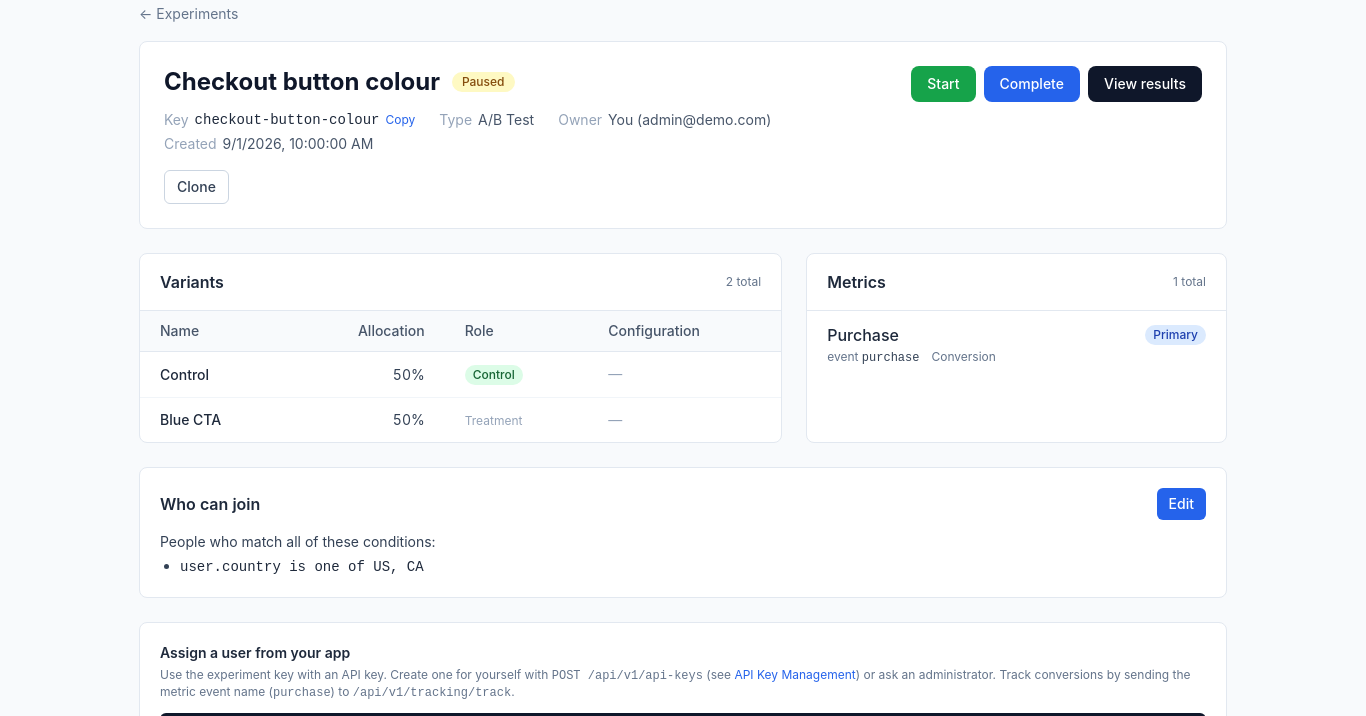
Test: Who can join — saving › asks before saving on a paused experiment, with the full notice, then sends only targeting_rules
Click the button "Edit" at [1181, 504], box [1157, 488, 1206, 520]
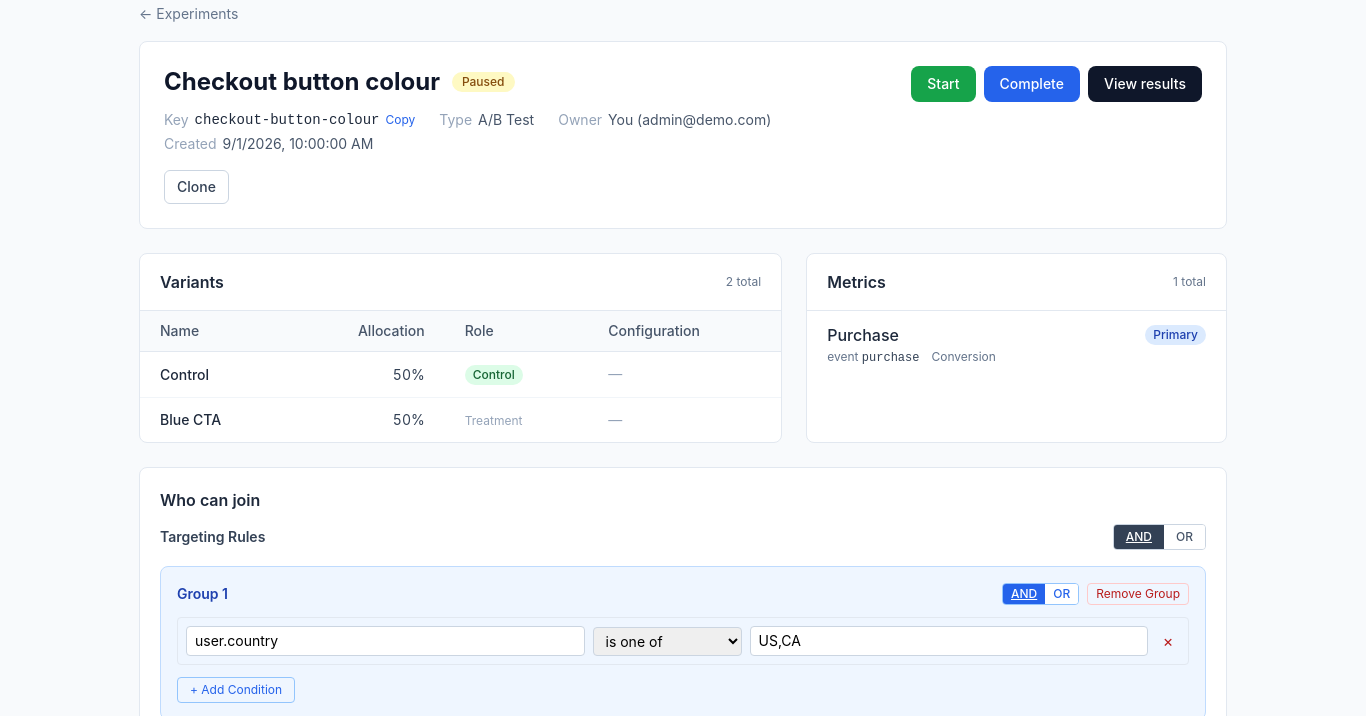
Replace the text in the field named "Group 1, condition 1 value" with "DE" at [949, 641], box [750, 626, 1148, 656]
(page scrolled)
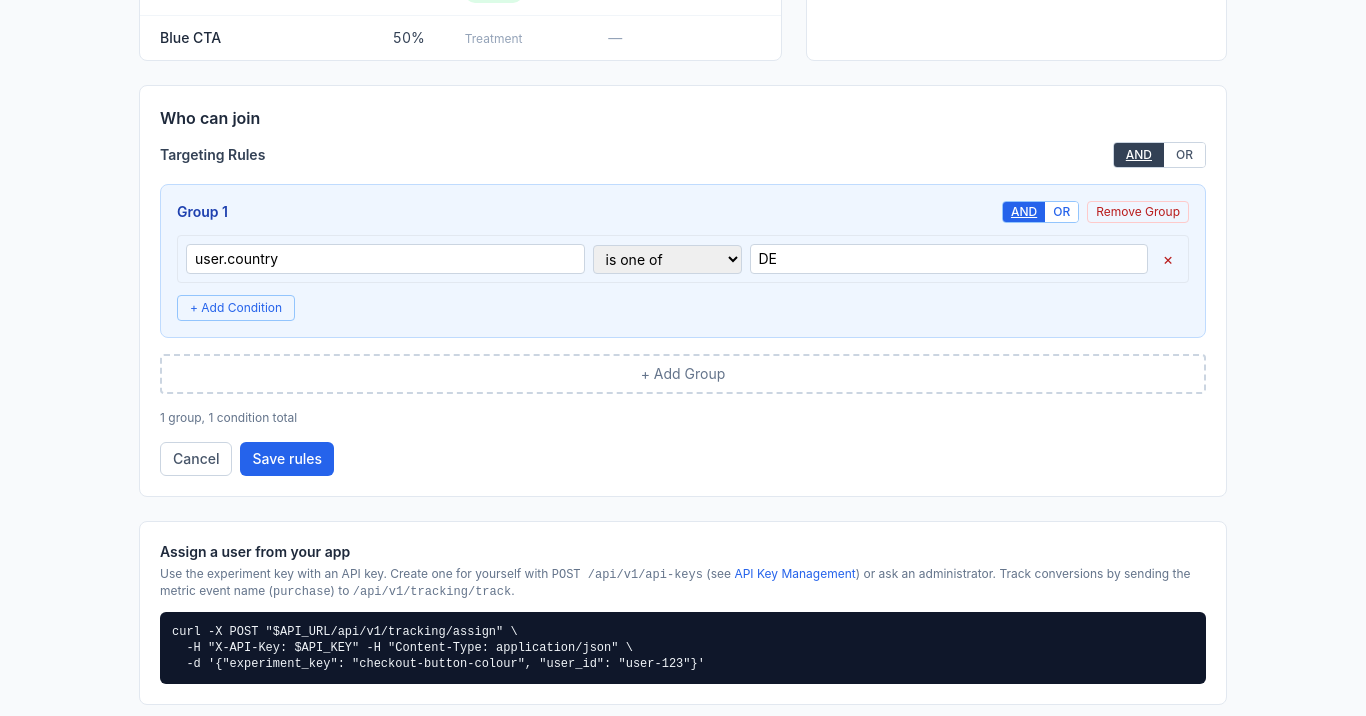
Click the button "Save rules" at [287, 459], box [240, 442, 334, 476]
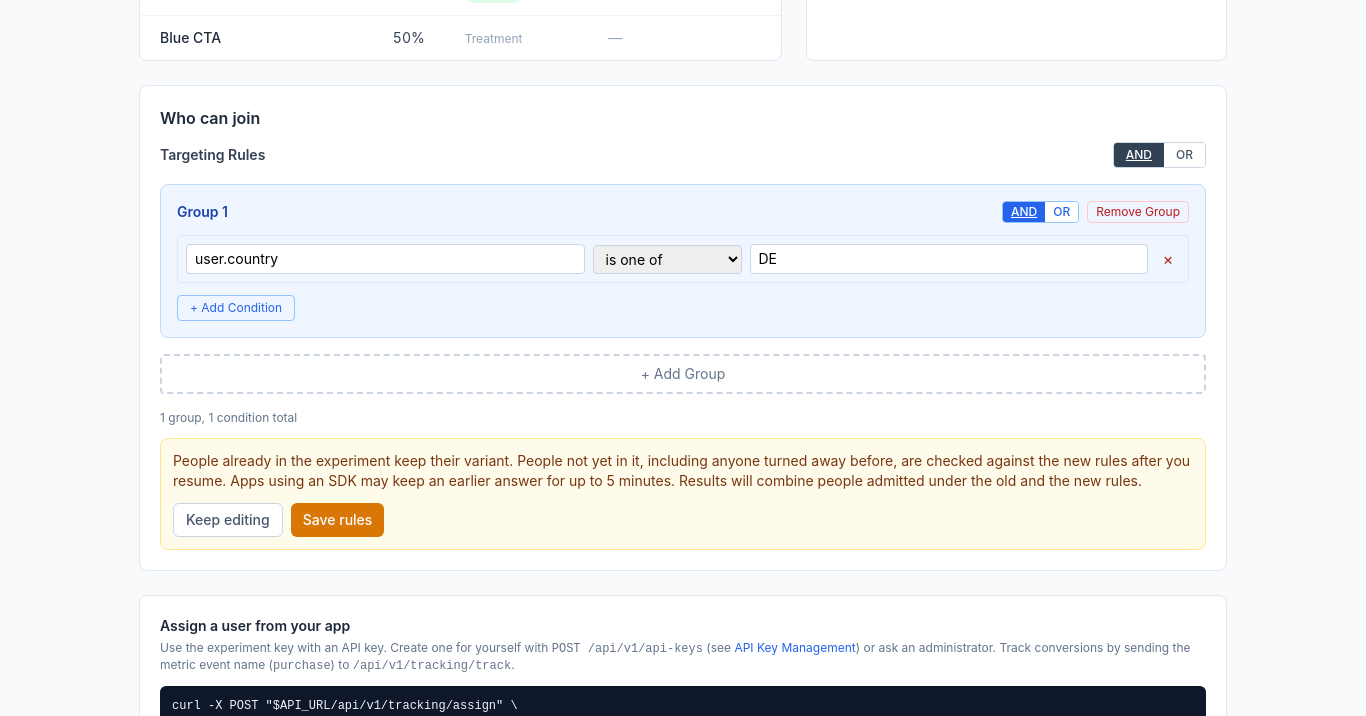
Click the button "Keep editing" at [228, 520], box [173, 503, 283, 537]
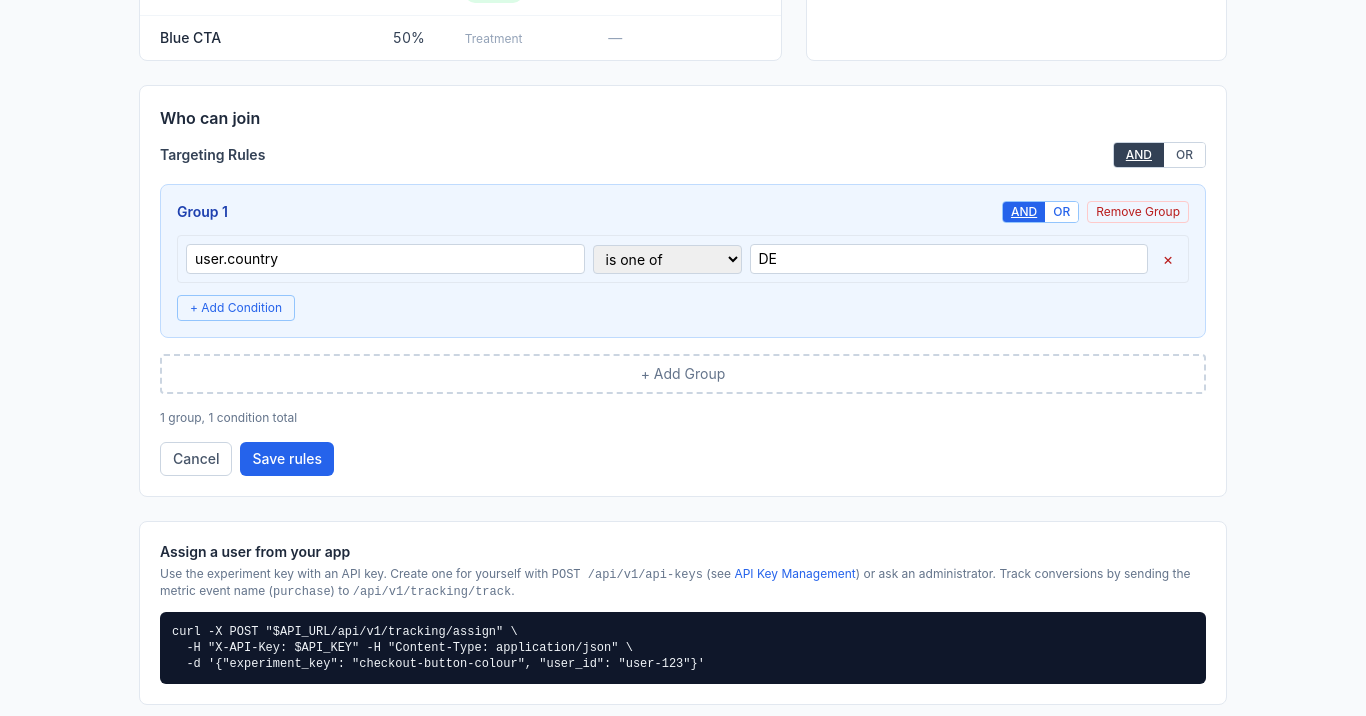
Click the button "Save rules" at [287, 459], box [240, 442, 334, 476]
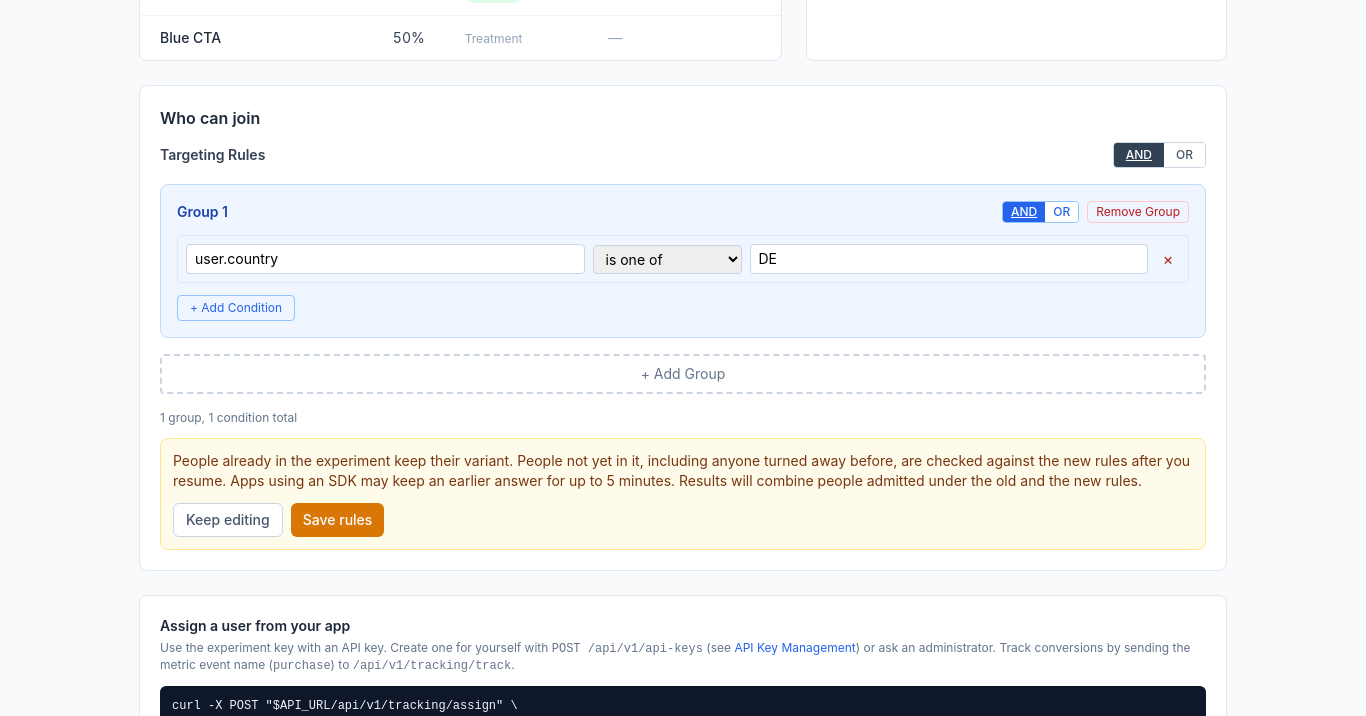
Click the button "Save rules" at [338, 520], box [291, 503, 384, 537]
(page scrolled)
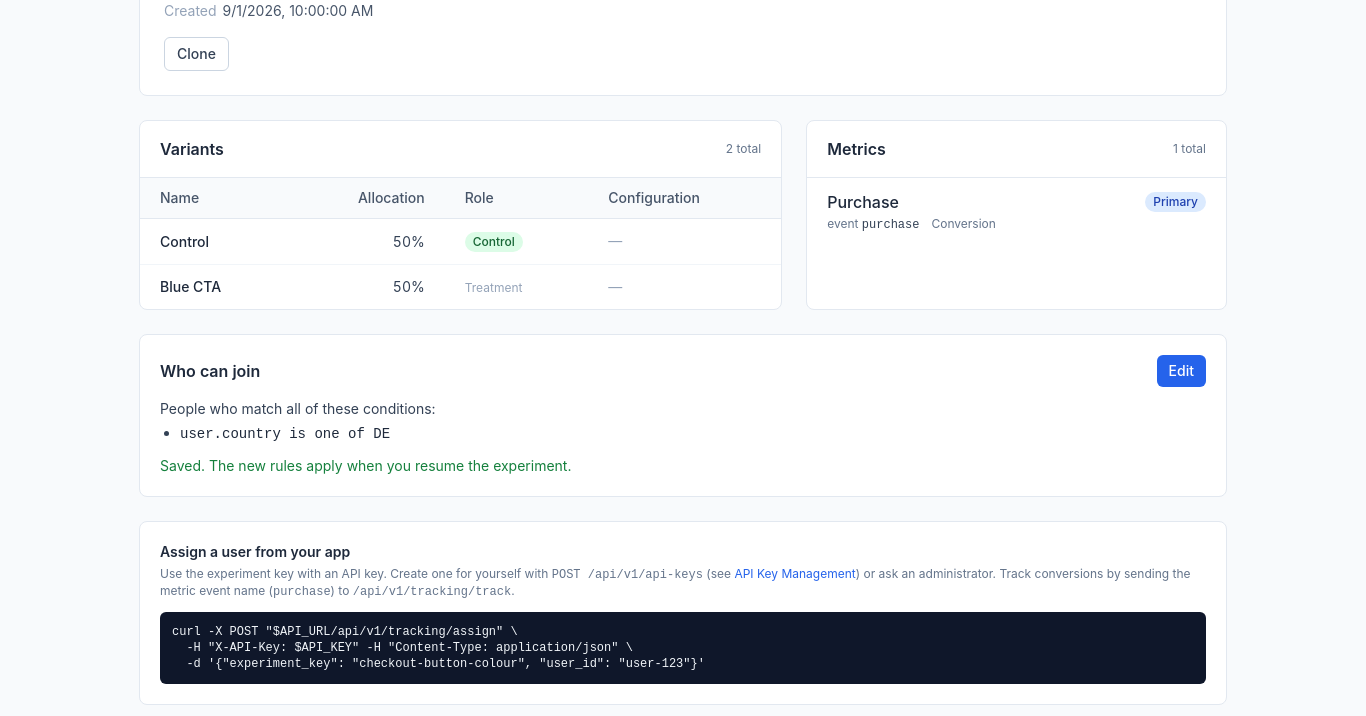
expect the text "Saved. The new rules apply when you resume the experiment." is shown: met, box [160, 457, 572, 474]
